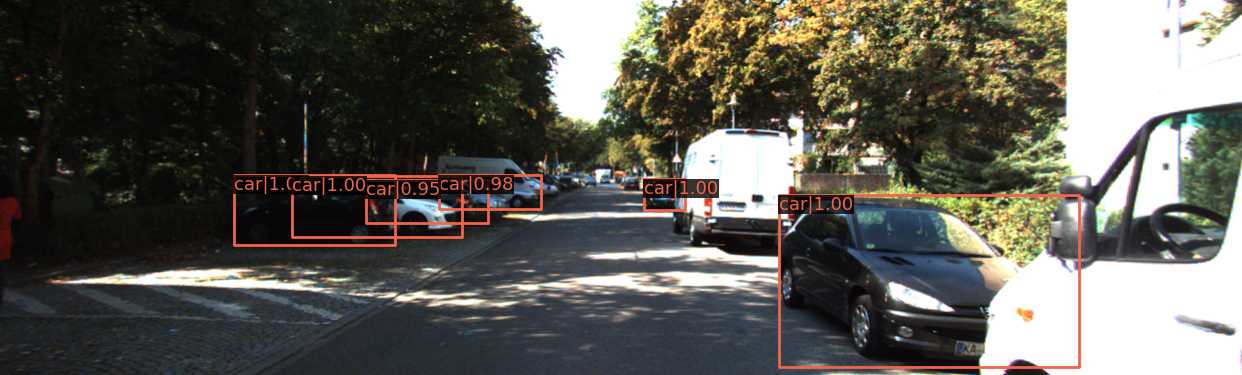car: (775, 194, 1076, 375), (236, 177, 401, 247), (291, 175, 459, 240), (320, 177, 476, 231), (449, 180, 539, 211), (645, 182, 685, 213)
